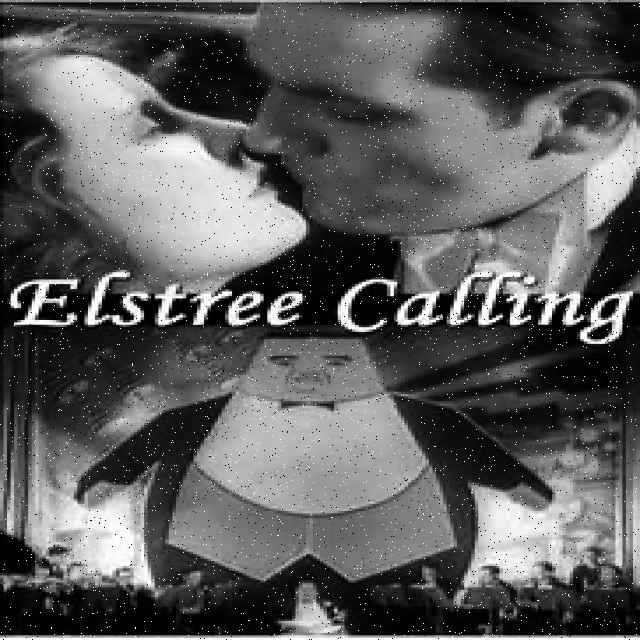movie-judul: (4, 259, 640, 337)
picture: (0, 5, 640, 634)
